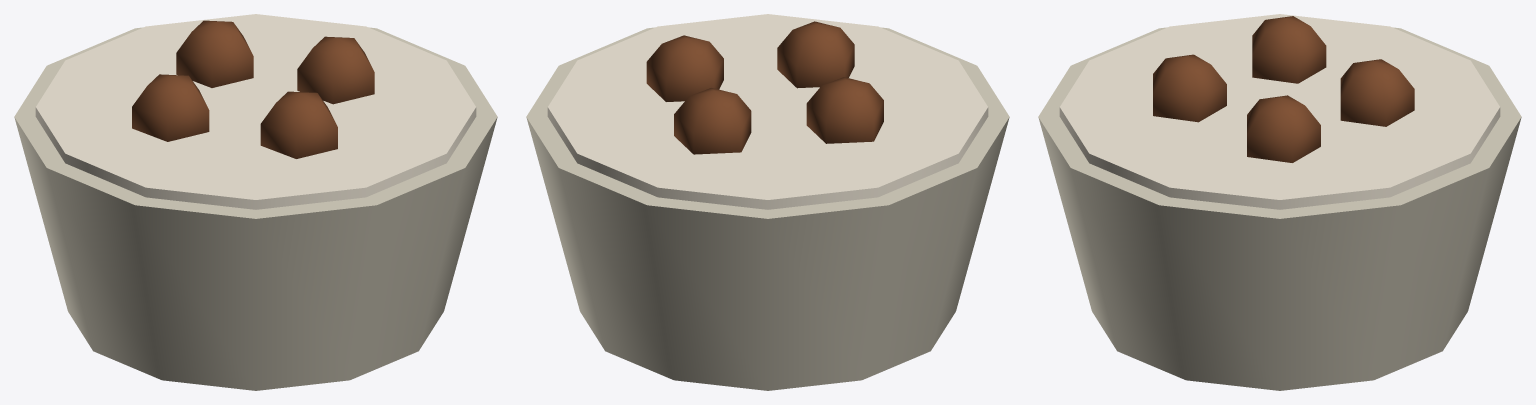
File: good-creamfry.glb
The picture shows the model from 3 angles, left to right: view 1: azimuth 30°, elevation 25°; view 2: azimuth 150°, elevation 25°; view 3: azimuth 270°, elevation 25°; orthographic projection.
Visible parts, largest first — view 1: #d8d2c0, #f0e8d8_noshadow, #7a4a2c_noshadow; view 2: #d8d2c0, #f0e8d8_noshadow, #7a4a2c_noshadow; view 3: #d8d2c0, #f0e8d8_noshadow, #7a4a2c_noshadow.
Part boxes in pixels (box(x1,y1,x2,y2)): #d8d2c0: box(14, 27, 497, 390); #f0e8d8_noshadow: box(35, 14, 476, 209); #7a4a2c_noshadow: box(132, 20, 374, 158); #d8d2c0: box(526, 27, 1009, 390); #f0e8d8_noshadow: box(547, 14, 988, 209); #7a4a2c_noshadow: box(646, 21, 883, 154); #d8d2c0: box(1038, 27, 1521, 390); #f0e8d8_noshadow: box(1059, 14, 1500, 209); #7a4a2c_noshadow: box(1153, 16, 1414, 162).
Size of the model in its own units: 0.18 by 0.104 by 0.18.
